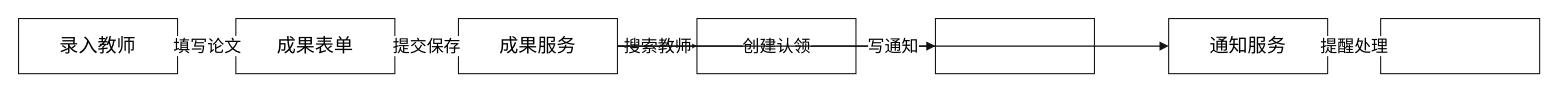
Some shapes in this 1558 by 92 pixel diagram are drawn without their labels. The shapes that lost their labels are listed below. From the top down, each one's box as (x1, y1, x2, y2) in pixels, then its label:
(934, 17, 1094, 74): 认领记录
(1380, 17, 1540, 74): 被认领教师
